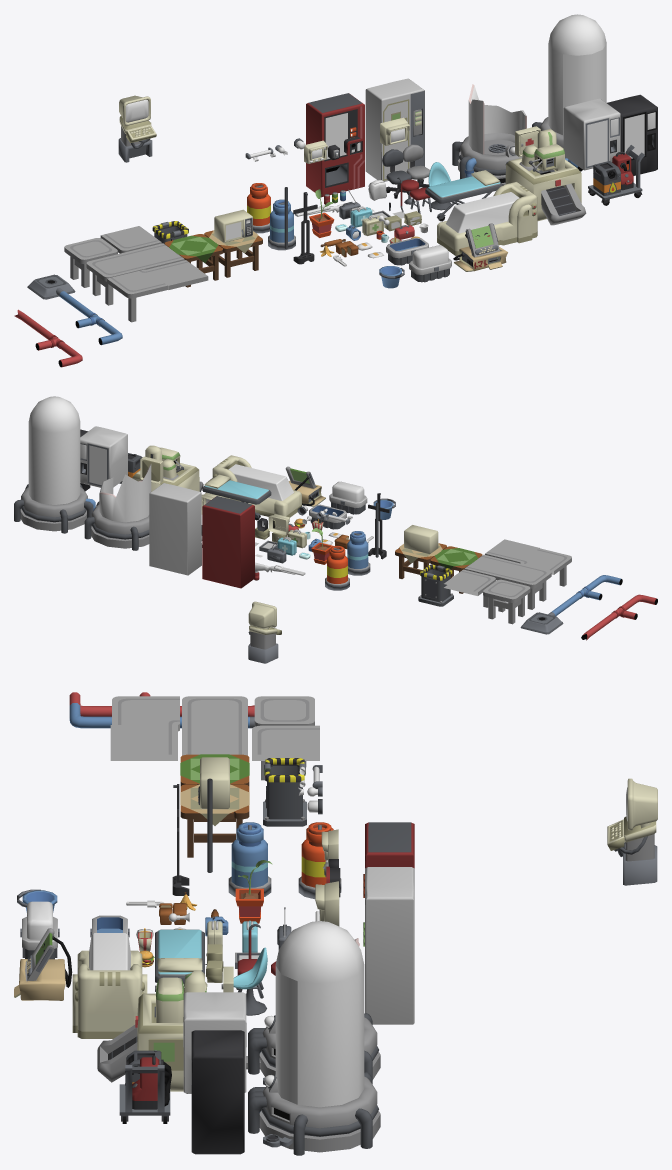
The model's file is computerbeep.fbx.
3 renders of one model, top to bottom at view 1: azimuth 30°, elevation 25°; view 2: azimuth 150°, elevation 25°; view 3: azimuth 270°, elevation 25°, orthographic. The views are drawn at different scales.
Visible parts, largest first — view 1: Getmore, Bioprinter, MediVend, CryotubeBroken, ChemFridge, Cryotube, DiagnosticUnit, BoozeOMat, CryotubeDoor, Computer, DiagnosticUnitCover, EdsComputer (+25 smaller); view 2: Cryotube, MediVend, Getmore, CryotubeBroken, ChemFridge, Computer, Bioprinter, Table-04, DiagnosticUnit, Rollerbed, DiagnosticUnitCover, DisposalsBin (+16 smaller); view 3: Cryotube, MediVend, BoozeOMat, Bioprinter, DiagnosticUnit, Computer, ChemFridge, CryotubeDoor, DisposalsBin, EdsComputer, Table-05, Table-01 (+21 smaller).
Boxes of the visible parts, x1,y1,x2,y2 form: Getmore: (306, 93, 364, 197); Bioprinter: (505, 129, 586, 225); MediVend: (365, 78, 424, 181); CryotubeBroken: (452, 84, 526, 185); ChemFridge: (563, 98, 620, 170); Cryotube: (532, 14, 606, 171); DiagnosticUnit: (437, 182, 537, 255); BoozeOMat: (607, 94, 657, 175); CryotubeDoor: (563, 44, 606, 135); Computer: (118, 95, 156, 162); DiagnosticUnitCover: (446, 192, 519, 233); EdsComputer: (453, 223, 507, 271); Cryotube: (14, 396, 95, 533); MediVend: (149, 483, 201, 575); Getmore: (202, 496, 254, 588); CryotubeBroken: (84, 464, 151, 550); ChemFridge: (80, 426, 127, 487); Computer: (248, 601, 281, 663); Bioprinter: (132, 445, 203, 491); Table-04: (483, 579, 530, 624); DiagnosticUnit: (212, 455, 301, 517); Rollerbed: (202, 474, 271, 520); DiagnosticUnitCover: (228, 464, 293, 500); DisposalsBin: (418, 564, 453, 606); Cryotube: (248, 921, 380, 1155); MediVend: (363, 867, 414, 1024); BoozeOMat: (191, 1030, 244, 1154); Bioprinter: (97, 970, 207, 1091); DiagnosticUnit: (72, 950, 147, 1038); Computer: (607, 778, 657, 885); ChemFridge: (183, 992, 246, 1093); CryotubeDoor: (275, 966, 297, 1104); DisposalsBin: (263, 758, 306, 826); EdsComputer: (14, 928, 72, 1000); Table-05: (110, 725, 177, 760); Table-01: (252, 725, 319, 780).
Bounding box in the file's own units: 1598 × 349 × 920.
